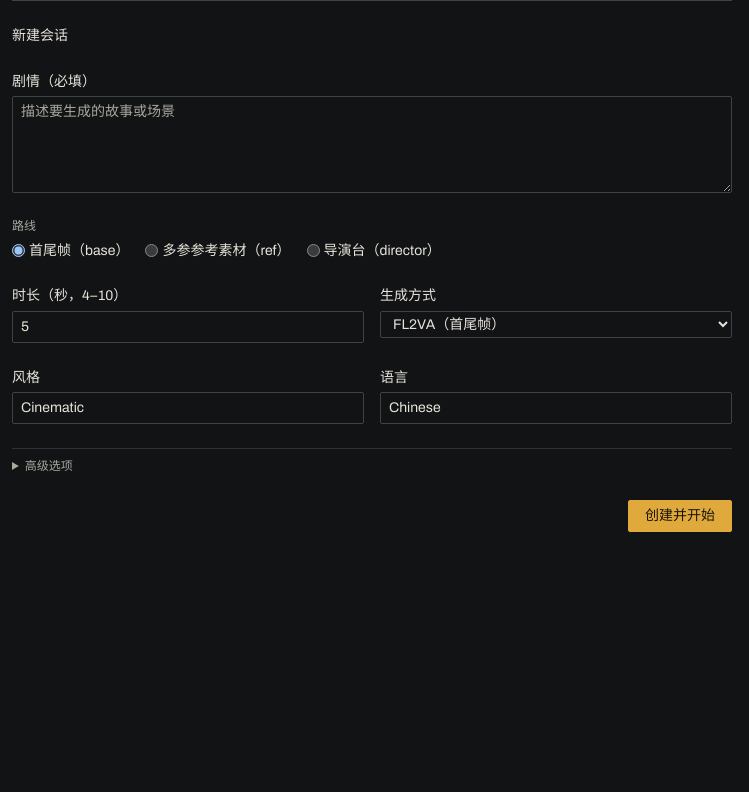
Scenario: SessionCreateForm 导演台路线（D8-1） › 默认不出现导演台字段；选 director 后隐藏变体并问齐模式与三个打包参数
Check: the dropdown named "variant" is shown, box [380, 311, 732, 338]
Click the radio button named "mode".
click(313, 251)  # box [306, 244, 320, 257]
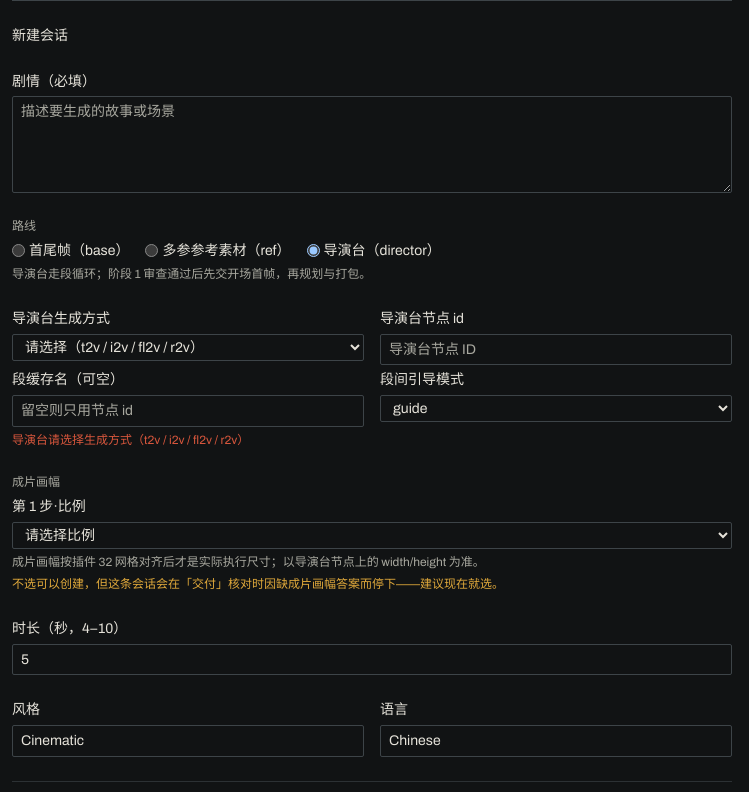
Check: the dropdown named "director_mode" is shown, box [12, 334, 364, 361]
Check: the field named "director_node_id" is shown, box [380, 334, 732, 365]
Check: the field named "director_cache_name" is shown, box [12, 395, 364, 427]
